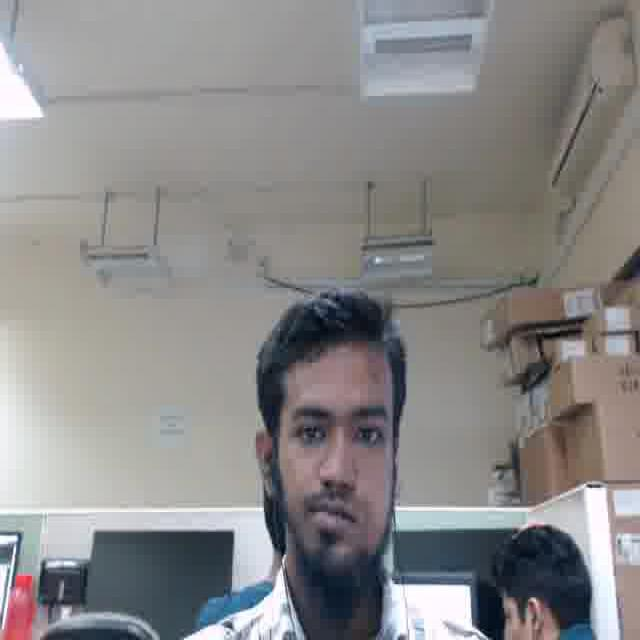Engaged: (276, 352, 396, 564)
